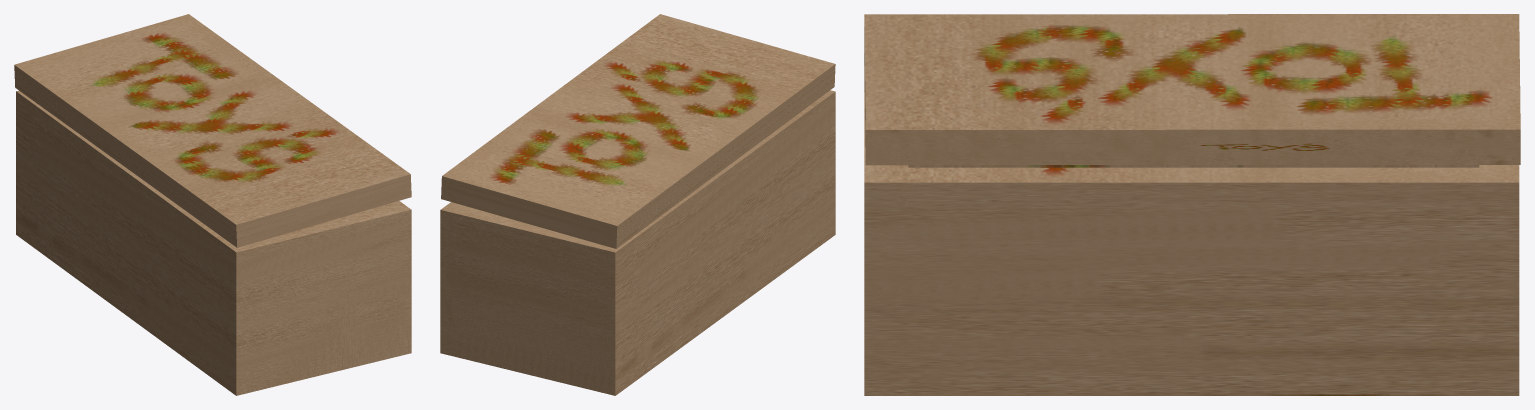
File: chest.fbx
3 views of the same model, side by side, from view 1: azimuth 30°, elevation 25°; view 2: azimuth 150°, elevation 25°; view 3: azimuth 270°, elevation 25° (orthographic). The views are drawn at different scales.
Parts seen in each view (by area): view 1: base, lid; view 2: base, lid; view 3: base, lid.
Part boxes in pixels (left/top/right/bottom): base: left=16, top=90, right=411, bottom=395; lid: left=14, top=14, right=411, bottom=247; base: left=440, top=90, right=835, bottom=395; lid: left=441, top=14, right=835, bottom=248; base: left=864, top=66, right=1519, bottom=395; lid: left=864, top=14, right=1520, bottom=165.
Bounding box in the file's own units: 5.61 × 5.39 × 12.06.
Materials: 1 (1 with a texture image).
